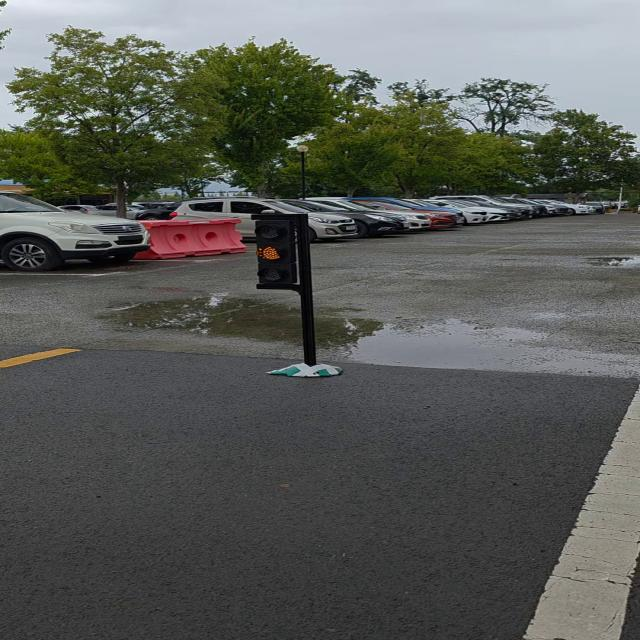yellow: (253, 218, 307, 288)
